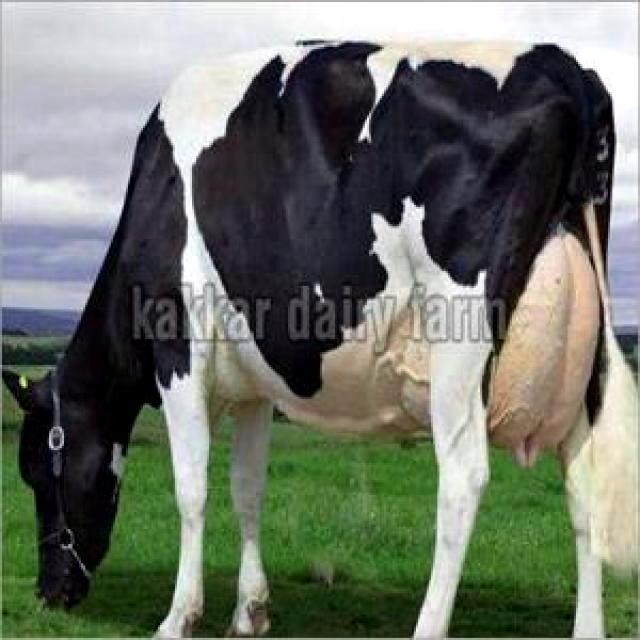COW: (5, 41, 640, 640)
